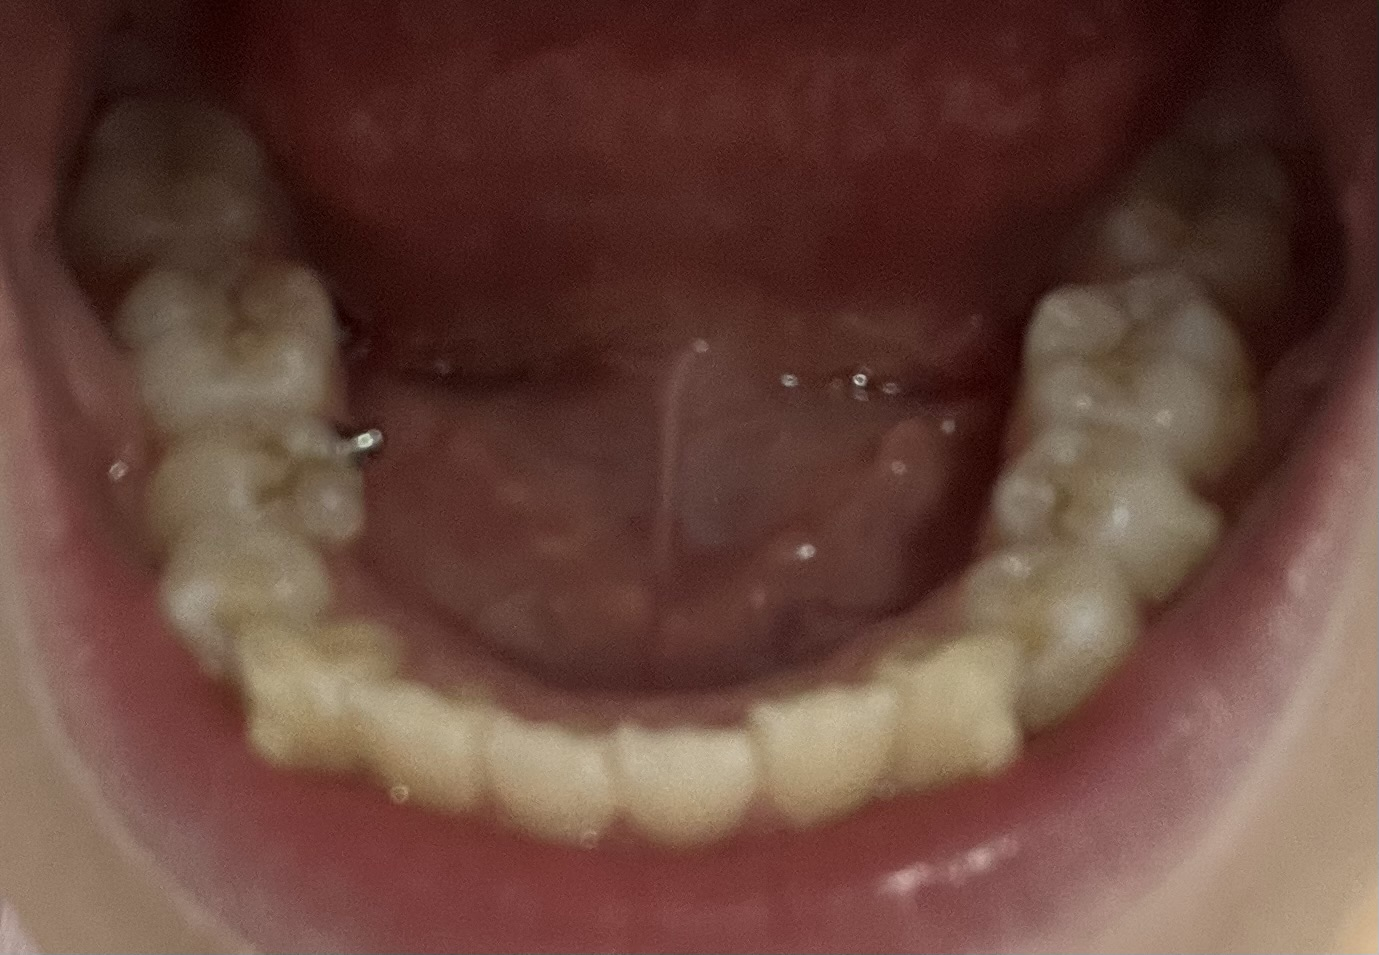teeth: (1029, 282, 1254, 471), (997, 432, 1221, 598), (118, 257, 340, 417), (74, 104, 272, 266), (962, 557, 1139, 731), (1119, 130, 1298, 286), (155, 429, 370, 552), (234, 644, 415, 769), (752, 690, 886, 831), (183, 550, 334, 673), (893, 636, 1013, 785), (381, 674, 489, 810), (629, 726, 743, 849), (507, 703, 603, 845)
